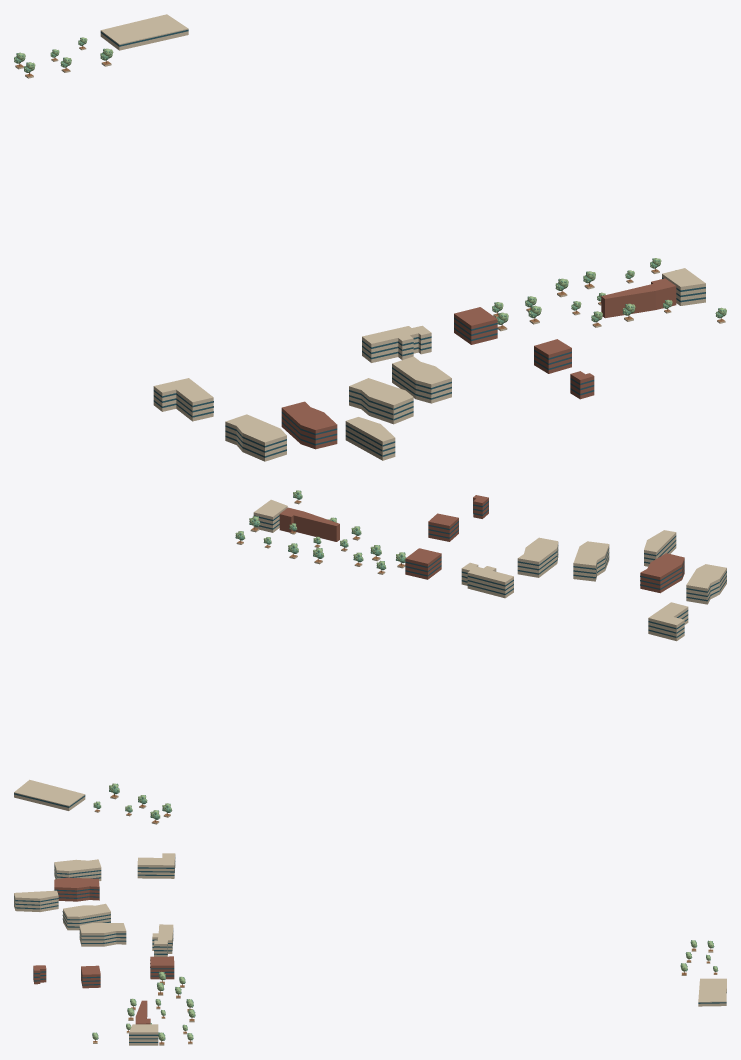
3 renders of one model, top to bottom at view 1: azimuth 30°, elevation 25°; view 2: azimuth 150°, elevation 25°; view 3: azimuth 270°, elevation 25°, orthographic. The views are drawn at different scales.
Parts seen in each view (by area): view 1: osm-way-959064097, osm-way-959064094, osm-way-959064095, osm-way-959064121, osm-way-959064096, osm-way-670670978, osm-way-959064122, osm-way-967274364, osm-relation-12899002.001, osm-way-967274361, osm-way-967274363, osm-way-967274421; view 2: osm-way-670670978, osm-way-959064121, osm-way-959064096, osm-way-967274364, osm-way-959064094, osm-way-959064095, osm-way-959064097, osm-way-959064122, osm-way-967274361, osm-relation-12899002.001, osm-way-967274421, osm-way-967274363; view 3: osm-way-959064095, osm-way-959064096, osm-way-959064097, osm-relation-12899002.001, osm-way-959064122, osm-way-959064094, osm-way-670670978, osm-way-967274363, osm-way-959064121, osm-way-967274361, osm-way-967274421.
Boxes of the visible parts, x1,y1,x2,y2 form: osm-way-959064097: (349,378,413,424); osm-way-959064094: (225,414,286,461); osm-way-959064095: (392,356,451,403); osm-way-959064121: (362,325,431,362); osm-way-959064096: (281,401,337,449); osm-way-670670978: (100,14,188,50); osm-way-959064122: (153,378,213,421); osm-way-967274364: (601,278,676,318); osm-relation-12899002.001: (345,417,395,460); osm-way-967274361: (454,307,497,344); osm-way-967274363: (662,268,705,305); osm-way-967274421: (534,339,571,373); osm-way-670670978: (14,779,85,810); osm-way-959064121: (461,562,513,598); osm-way-959064096: (640,553,684,593); osm-way-967274364: (279,507,339,541); osm-way-959064094: (686,564,726,604); osm-way-959064095: (517,537,558,577); osm-way-959064097: (573,541,609,581); osm-way-959064122: (648,602,688,641); osm-way-967274361: (405,548,441,579); osm-relation-12899002.001: (644,530,676,566); osm-way-967274421: (428,513,458,541); osm-way-967274363: (253,499,287,532); osm-way-959064095: (79,923,126,946); osm-way-959064096: (54,877,99,901); osm-way-959064097: (62,903,110,930); osm-relation-12899002.001: (14,890,58,911); osm-way-959064122: (137,853,175,878); osm-way-959064094: (54,859,101,881); osm-way-670670978: (698,978,726,1006); osm-way-967274363: (129,1024,158,1045); osm-way-959064121: (152,924,173,956); osm-way-967274361: (150,956,174,979); osm-way-967274421: (81,965,100,988).
Bounding box in the file's own units: 426 × 15 × 714.
